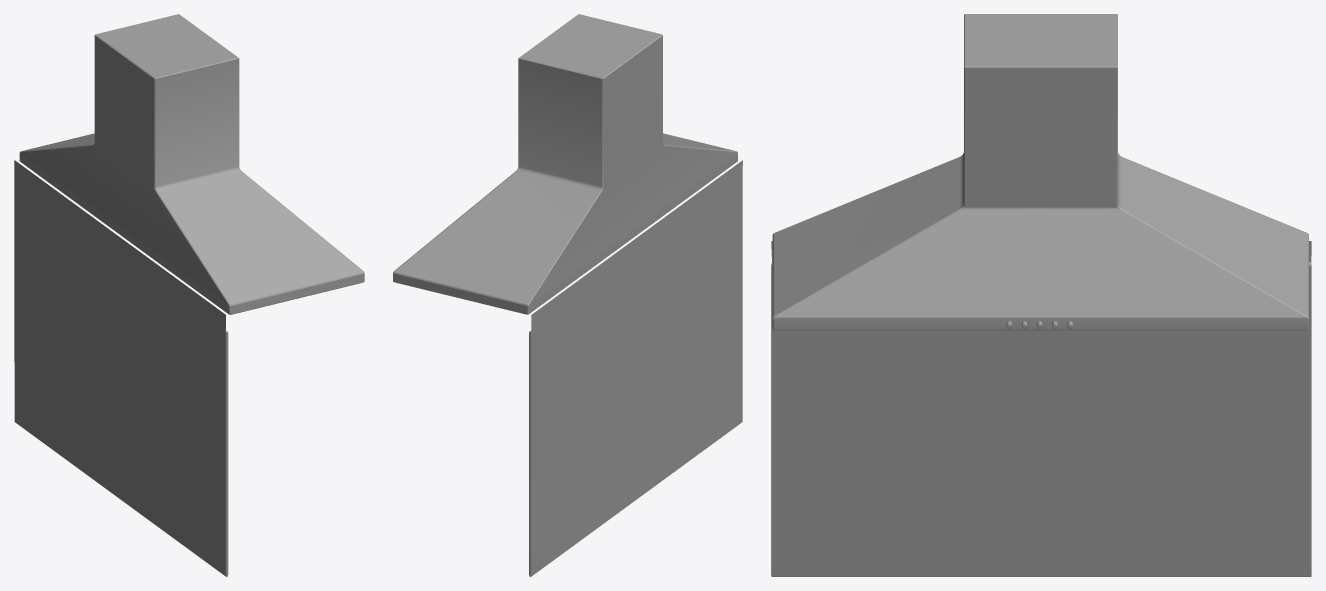
Rendered from hood.glb.
3 views of the same model, side by side, from view 1: azimuth 30°, elevation 25°; view 2: azimuth 150°, elevation 25°; view 3: azimuth 270°, elevation 25° (orthographic). The views are drawn at different scales.
Parts seen in each view (by area): view 1: ExtractorHood_0001; view 2: ExtractorHood_0001; view 3: ExtractorHood_0001.
Boxes of the visible parts, x1,y1,x2,y2 form: ExtractorHood_0001: (14, 14, 364, 576); ExtractorHood_0001: (393, 14, 742, 576); ExtractorHood_0001: (771, 14, 1311, 576).
Size of the model in its own units: 0.4885 by 1.43 by 1.24.
Materials: 1 (1 with a texture image).
